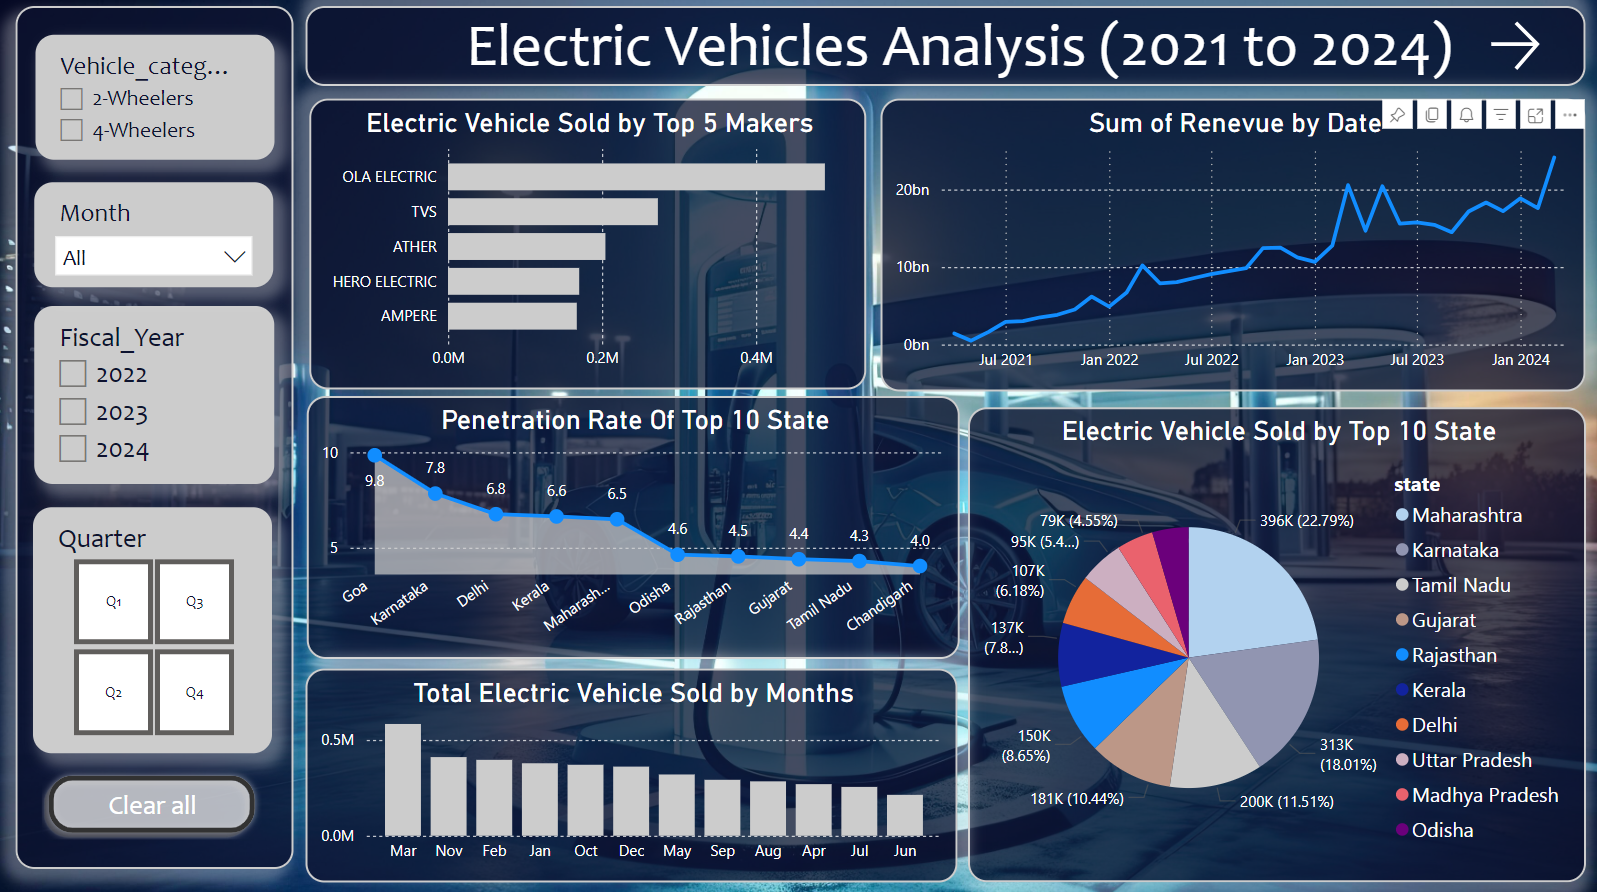

This screenshot's page, from the dashboard's own definition file:
{"tool":"powerbi","page":{"name":"Dynamic Analysis","canvas":[1280,720],"ordinal":0},"visuals":[{"type":"barChart","title":"Electric Vehicle Sold by Top 5 Makers","fields":{"Category":["sales_by_makers.maker"],"Y":["sales_by_makers.vehicle_sold"]},"box":[249.1,82,445.2,232.8],"z":0,"group":"g2"},{"type":"areaChart","title":"Penetration Rate Of Top 10 State","fields":{"Category":["sales_by_state.state"],"Y":["All measures.penetration_rate_state"]},"box":[247.3,319.7,521.2,209.9],"z":0},{"type":"shape","title":"Filtes","box":[14.5,8.4,222,690.1],"z":1000,"group":"g1"},{"type":"pieChart","title":"Electric Vehicle Sold by Top 10 State","fields":{"Y":["sales_by_state.el_sold_vehicle"],"Category":["sales_by_state.state"]},"box":[775.7,329.4,494.6,380],"z":1000},{"type":"shape","title":"Electric Vehicles Analysis (2021 to 2024)","box":[246.1,8.4,1024.3,63.9],"z":2000},{"type":"slicer","fields":{"Values":["sales_by_state.vehicle_category"]},"box":[30.5,31.7,190.6,99.8],"z":2000,"group":"g3"},{"type":"group","id":"g1","title":"Group 2","box":[14.5,8.4,222,690.1],"z":3000},{"type":"slicer","title":"Fiscal_Year","fields":{"Values":["date.fiscal_year"]},"box":[29.4,248.6,192.1,141.8],"z":3000,"group":"g3"},{"type":"actionButton","box":[1188.3,14.5,55.5,51.9],"z":4000},{"type":"slicer","fields":{"Values":["sales_by_makers.Month"]},"box":[29.2,149.3,190.6,84.8],"z":4000,"group":"g3"},{"type":"group","id":"g2","title":"Group 3","box":[249.1,82,445.2,232.8],"z":5000},{"type":"slicer","fields":{"Values":["date.quarter"]},"box":[28.3,409.6,191,197.1],"z":5000,"group":"g3"},{"type":"lineChart","title":"Sum of Renevue by Date","fields":{"Y":["Sum(sales_by_makers.Renevue)"],"Category":["sales_by_makers.date"]},"box":[705.8,82,564.6,234],"z":6000},{"type":"clusteredColumnChart","title":"Total Electric Vehicle Sold by Months","fields":{"Category":["date.month"],"Y":["All measures.Total_elec_sold"]},"box":[246.1,538.1,521.2,171.3],"z":7000},{"type":"actionButton","box":[35.5,618.6,176.1,56.7],"z":10000,"group":"g3"},{"type":"group","id":"g3","title":"Group 1","box":[28.3,31.7,193.2,643.6],"z":10001,"group":"g1"}]}

Visuals, with their boxes in screenshot pixels (x1, y1, x2, y2), scaled from the page's 1280x720 canvas onto the 1597x892 screenshot:
"Electric Vehicle Sold by Top 5 Makers" barChart: left=311, top=102, right=866, bottom=390
"Penetration Rate Of Top 10 State" areaChart: left=309, top=396, right=959, bottom=656
"Filtes" shape: left=18, top=10, right=295, bottom=865
"Electric Vehicle Sold by Top 10 State" pieChart: left=968, top=408, right=1585, bottom=879
"Electric Vehicles Analysis (2021 to 2024)" shape: left=307, top=10, right=1585, bottom=90
slicer - sales_by_state.vehicle_category: left=38, top=39, right=276, bottom=163
"Group 2" group: left=18, top=10, right=295, bottom=865
"Fiscal_Year" slicer: left=37, top=308, right=276, bottom=484
actionButton: left=1483, top=18, right=1552, bottom=82
slicer - sales_by_makers.Month: left=36, top=185, right=274, bottom=290
"Group 3" group: left=311, top=102, right=866, bottom=390
slicer - date.quarter: left=35, top=507, right=274, bottom=752
"Sum of Renevue by Date" lineChart: left=881, top=102, right=1585, bottom=391
"Total Electric Vehicle Sold by Months" clusteredColumnChart: left=307, top=667, right=957, bottom=879
actionButton: left=44, top=766, right=264, bottom=837
"Group 1" group: left=35, top=39, right=276, bottom=837
